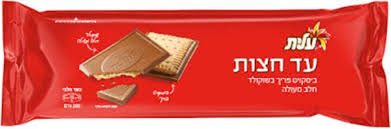Chocolate: (5, 1, 378, 129)
